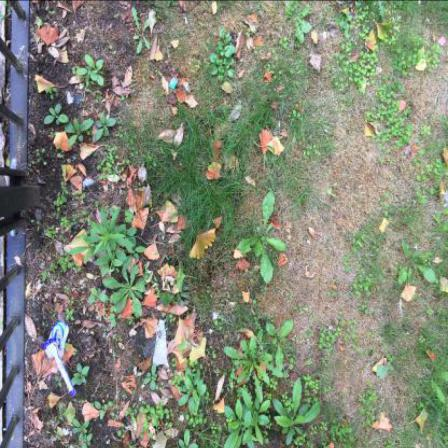Carton: (170, 79, 179, 90)
Plastic bag - wrapper: (43, 323, 78, 397)
Unlabeled litter: (154, 320, 170, 367)
